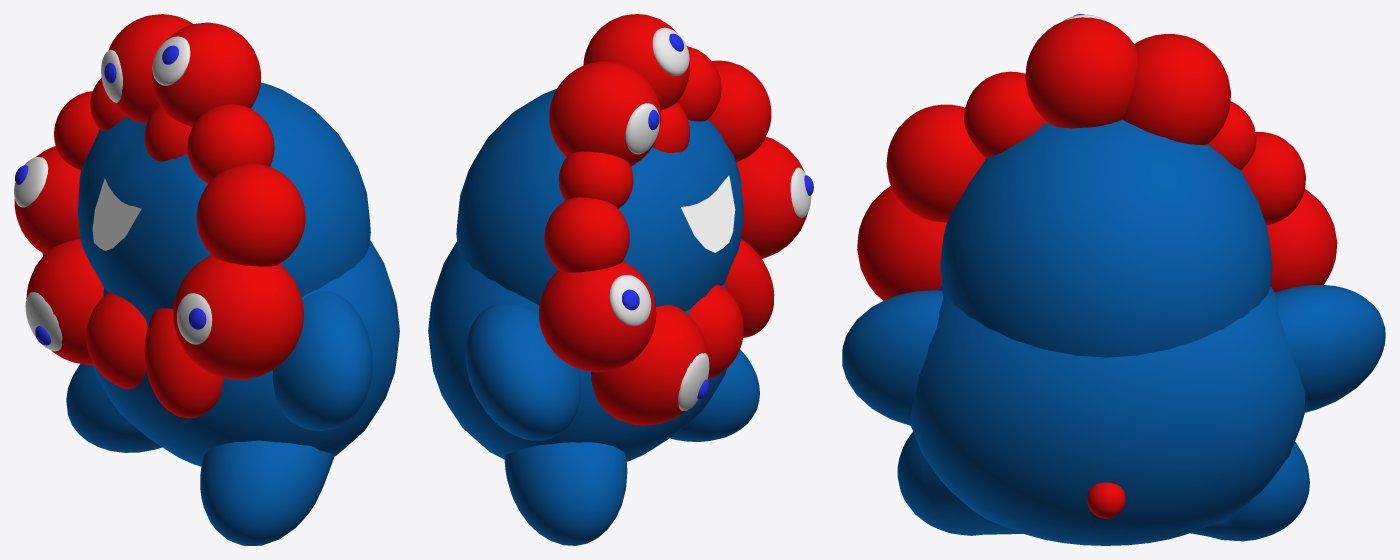
File: muti_myaku_shade.fbx
3 renders of one model, left to right at view 1: azimuth 30°, elevation 25°; view 2: azimuth 150°, elevation 25°; view 3: azimuth 270°, elevation 25°, orthographic. The views are drawn at different scales.
Visible parts, largest first — view 1: head, body, 球.011, 球.022, 球.025, 球.010, 球, 球.006, 球.008, 球.009, 球.007, 球.002 (+11 smaller); view 2: head, body, 球.024, 球.023, 球.005, 球.002, 球.006, 球.011, 球.004, 球, 球.010, 球.022 (+11 smaller); view 3: body, head, 球, 球.024, 球.002, 球.025, 球.010, 球.011, 球.005, 球.009, 球.023, 球.022 (+3 smaller).
Part boxes in pixels (bbox=[...]): head: bbox=[77, 82, 370, 321]; body: bbox=[93, 240, 399, 466]; 球.011: bbox=[173, 255, 303, 379]; 球.022: bbox=[200, 440, 334, 545]; 球.025: bbox=[272, 291, 372, 430]; 球.010: bbox=[196, 163, 305, 266]; 球: bbox=[152, 22, 260, 126]; 球.006: bbox=[26, 239, 103, 365]; 球.008: bbox=[144, 308, 223, 418]; 球.009: bbox=[187, 104, 274, 183]; 球.007: bbox=[86, 292, 147, 389]; 球.002: bbox=[108, 14, 192, 122]; head: bbox=[456, 89, 743, 311]; body: bbox=[428, 241, 726, 461]; 球.024: bbox=[465, 303, 580, 440]; 球.023: bbox=[504, 442, 627, 545]; 球.005: bbox=[539, 261, 656, 372]; 球.002: bbox=[549, 61, 661, 166]; 球.006: bbox=[591, 305, 708, 425]; 球.011: bbox=[736, 136, 807, 258]; 球.004: bbox=[544, 197, 629, 272]; 球: bbox=[583, 14, 689, 110]; 球.010: bbox=[708, 60, 771, 162]; 球.022: bbox=[670, 349, 759, 441]; body: bbox=[910, 286, 1305, 545]; head: bbox=[940, 119, 1272, 357]; 球: bbox=[1025, 17, 1137, 128]; 球.024: bbox=[1275, 285, 1385, 412]; 球.002: bbox=[1122, 34, 1230, 144]; 球.025: bbox=[842, 290, 942, 425]; 球.010: bbox=[886, 104, 985, 222]; 球.011: bbox=[857, 186, 946, 300]; 球.005: bbox=[1266, 189, 1337, 292]; 球.009: bbox=[964, 71, 1047, 157]; 球.023: bbox=[1190, 442, 1309, 541]; 球.022: bbox=[897, 431, 1023, 535].
Size of the model in its own units: 762 by 1130 by 1080.
